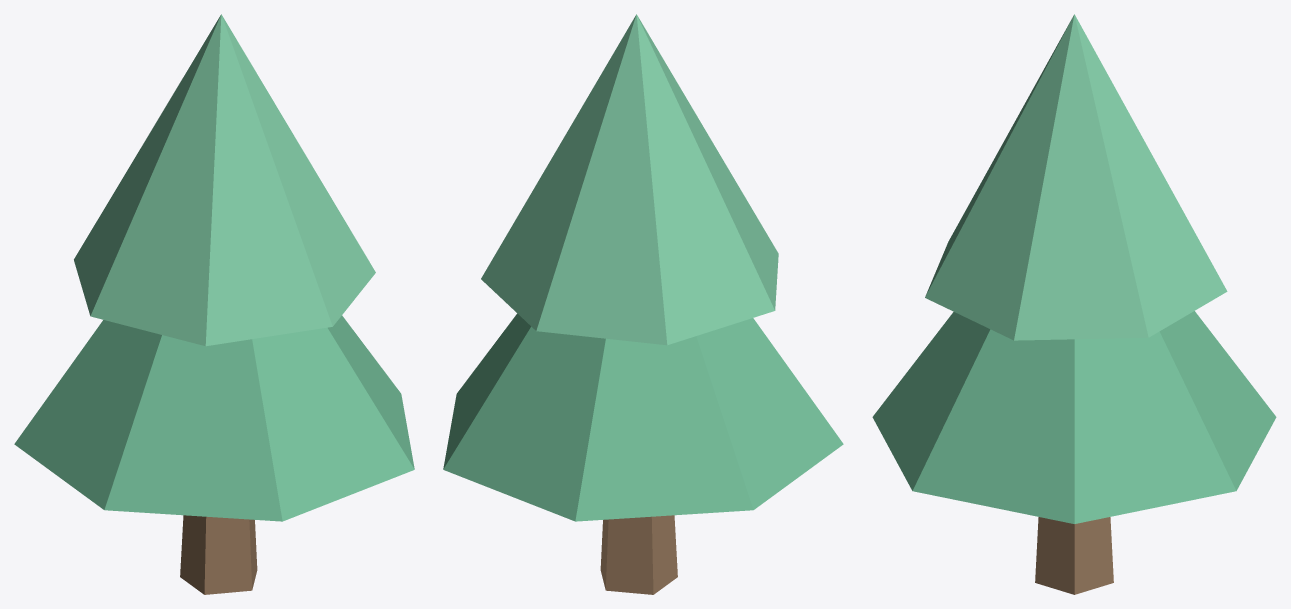
Rendered from arbol.glb.
The picture shows the model from 3 angles, left to right: view 1: azimuth 30°, elevation 25°; view 2: azimuth 150°, elevation 25°; view 3: azimuth 270°, elevation 25°; orthographic projection.
Visible parts, largest first — view 1: modelo; view 2: modelo; view 3: modelo.
Part boxes in pixels (box(x1,y1,x2,y2)): modelo: box(14, 14, 414, 594); modelo: box(443, 14, 843, 594); modelo: box(872, 14, 1276, 594).
Size of the model in its own units: 1.14 by 1.8 by 1.17.
